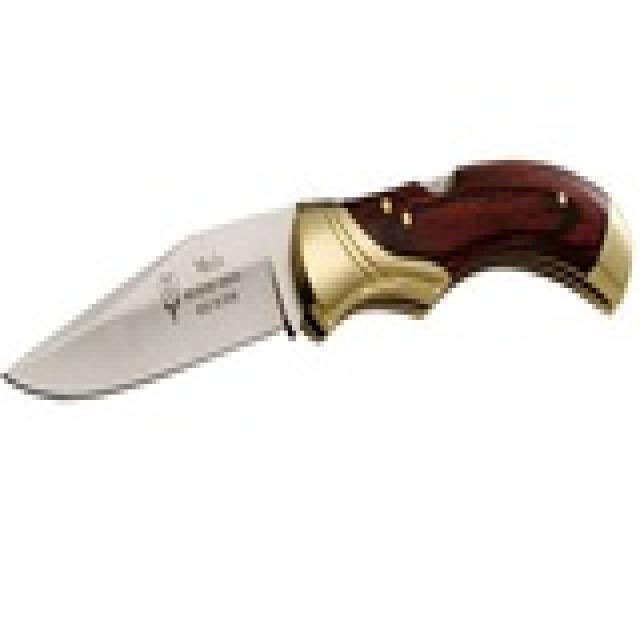Knife: (1, 158, 634, 406)
